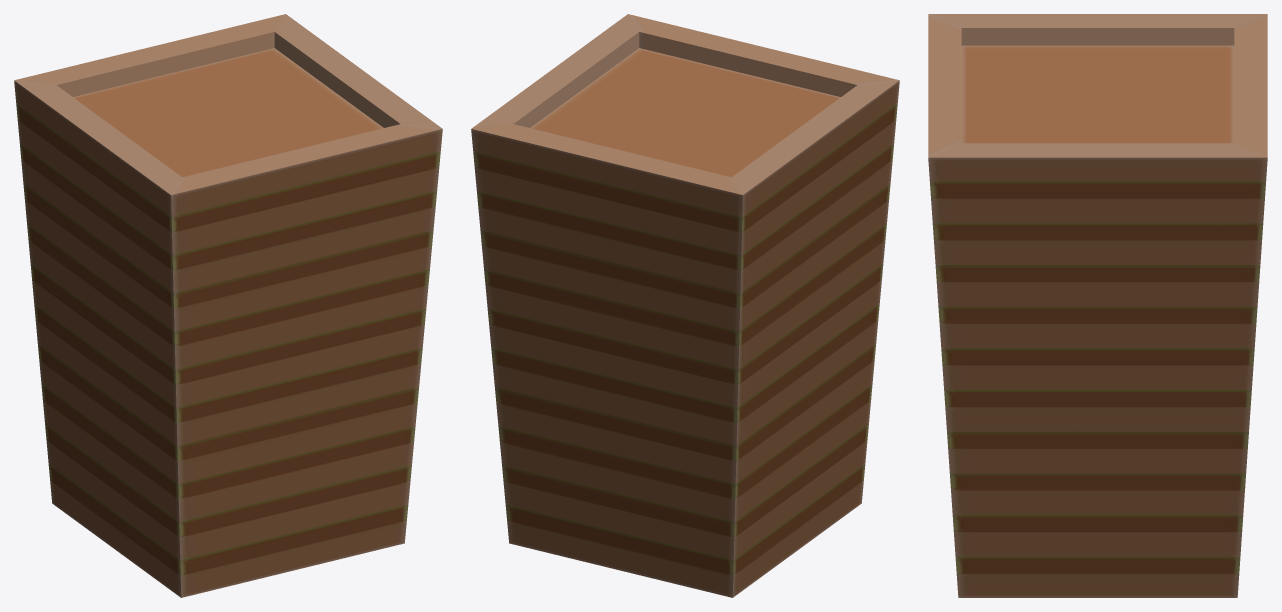
Rendered from MapScenery3.fbx.
The picture shows the model from 3 angles, left to right: view 1: azimuth 30°, elevation 25°; view 2: azimuth 150°, elevation 25°; view 3: azimuth 270°, elevation 25°; orthographic projection. The views are drawn at different scales.
Parts seen in each view (by area): view 1: Skyscraper_A; view 2: Skyscraper_A; view 3: Skyscraper_A.
Boxes of the visible parts, x1,y1,x2,y2 form: Skyscraper_A: (14,14,442,597); Skyscraper_A: (471,14,899,597); Skyscraper_A: (928,14,1267,597).
Bounding box in the file's own units: 0.8522 × 1.25 × 0.8522.
1 material, 1 textured.
